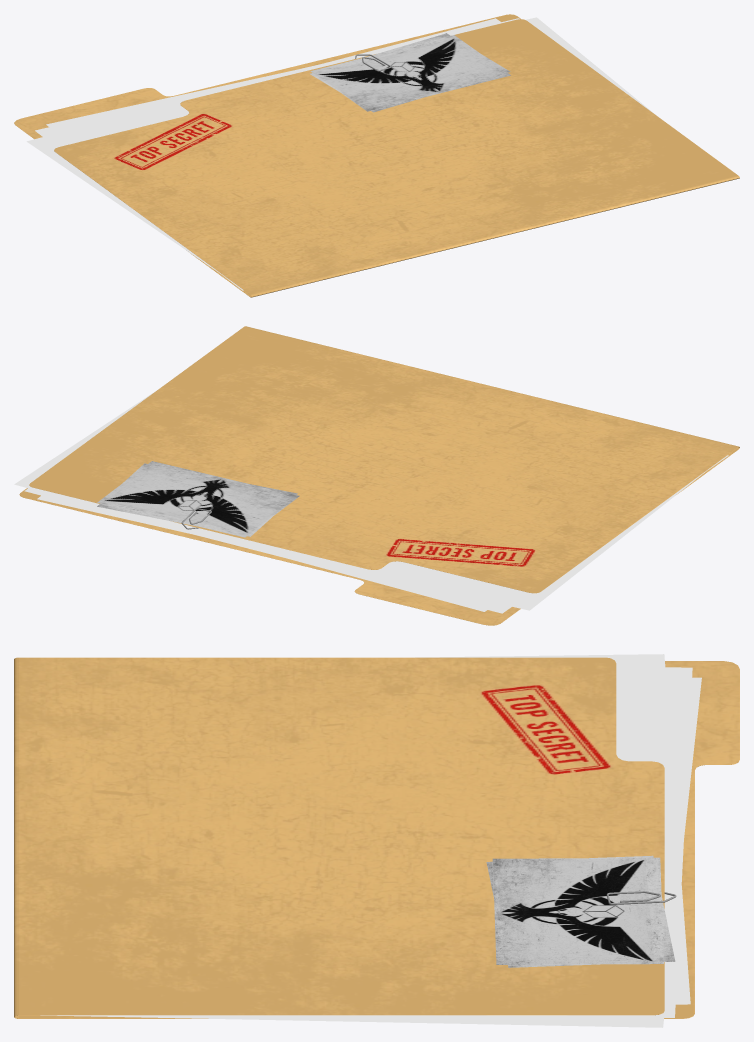
Rendered from dossier-secondary.glb.
3 renders of one model, top to bottom at view 1: azimuth 30°, elevation 25°; view 2: azimuth 150°, elevation 25°; view 3: azimuth 270°, elevation 25°, orthographic. The views are drawn at different scales.
Visible parts, largest first — view 1: SM_Dossier_0, SM_Note_3, SM_Paper_2; view 2: SM_Dossier_0, SM_Paper_2, SM_Note_3; view 3: SM_Dossier_0, SM_Note_3, SM_Paper_2.
Boxes of the visible parts, bbox=[...] form: SM_Dossier_0: bbox=[14, 14, 739, 297]; SM_Note_3: bbox=[310, 33, 510, 112]; SM_Paper_2: bbox=[26, 17, 657, 290]; SM_Dossier_0: bbox=[19, 326, 739, 625]; SM_Paper_2: bbox=[14, 390, 728, 613]; SM_Note_3: bbox=[97, 461, 299, 537]; SM_Dossier_0: bbox=[14, 657, 739, 1018]; SM_Note_3: bbox=[486, 855, 675, 967]; SM_Paper_2: bbox=[40, 654, 701, 1027].
Size of the model in its own units: 0.356 by 0.00282 by 0.2923.
4 materials, 2 textured.
